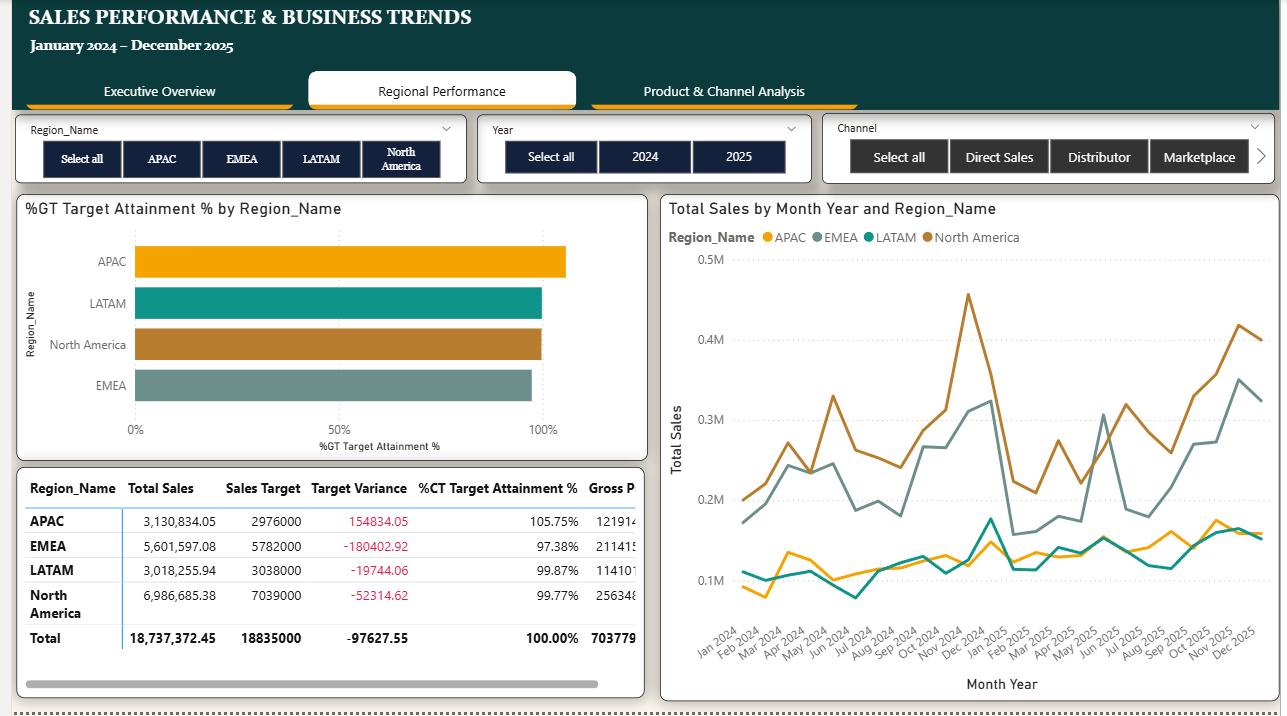

The dashboard page shown, as its layout file describes it:
{"tool":"powerbi","page":{"name":"Regional Performance","canvas":[1280,720],"ordinal":1},"visuals":[{"type":"clusteredBarChart","fields":{"Category":["Dim_Region.Region_Name"],"Y":["Data_Dictionary.Target Attainment %"]},"box":[4.5,196.8,637.5,269.5],"z":0},{"type":"pivotTable","fields":{"Rows":["Dim_Region.Region_Name"],"Values":["Data_Dictionary.Total Sales","Data_Dictionary.Sales Target","Data_Dictionary.Target Variance","Data_Dictionary.Target Attainment %","Data_Dictionary.Gross Profit"]},"box":[4.5,472.4,633.9,233.2],"z":1000},{"type":"lineChart","fields":{"Category":["DateTable.Month Year"],"Y":["Data_Dictionary.Total Sales"],"Series":["Dim_Region.Region_Name"]},"box":[654.1,196.8,625.4,511.8],"z":2000},{"type":"slicer","fields":{"Values":["DateTable.Year"]},"box":[469.4,116.6,337.7,69.7],"z":3000},{"type":"slicer","fields":{"Values":["Dim_Region.Region_Name"]},"box":[3,116.6,455.8,69.7],"z":4000},{"type":"slicer","fields":{"Values":["Sales_Transactions.Channel"]},"box":[817.7,115.1,457.3,71.2],"z":5000},{"type":"textbox","box":[0,0,1279.5,112.1],"z":6000},{"type":"pageNavigator","box":[13.6,72.7,843.4,39.4],"z":7000}]}

Visuals, with their boxes in screenshot pixels (x1, y1, x2, y2), scaled from the page's 1280x720 canvas onto the 1287x716 screenshot:
clusteredBarChart - Dim_Region.Region_Name x Data_Dictionary.Target Attainment %: 5, 196, 646, 464
pivotTable - Dim_Region.Region_Name x Data_Dictionary.Total Sales: 5, 470, 642, 702
lineChart - DateTable.Month Year x Data_Dictionary.Total Sales: 658, 196, 1286, 705
slicer - DateTable.Year: 472, 116, 812, 185
slicer - Dim_Region.Region_Name: 3, 116, 461, 185
slicer - Sales_Transactions.Channel: 822, 114, 1282, 185
textbox: 0, 0, 1286, 111
pageNavigator: 14, 72, 862, 111
